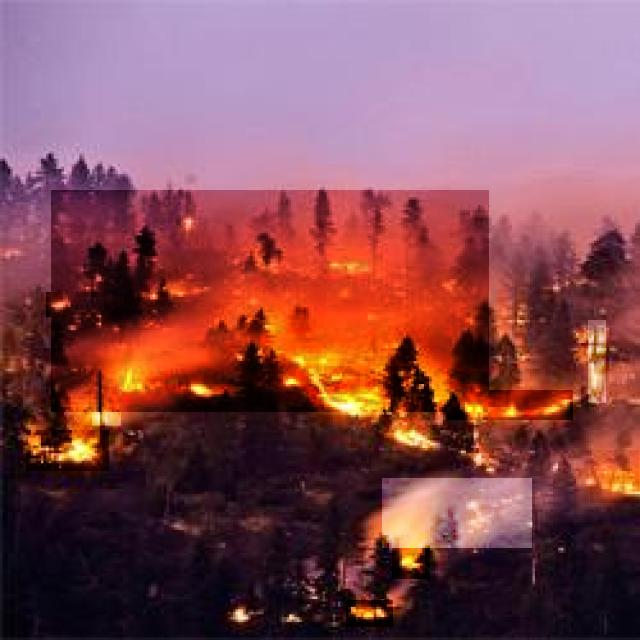Fire: (300, 343, 395, 425), (448, 390, 574, 420), (26, 430, 109, 471), (590, 450, 639, 503), (393, 421, 446, 457), (149, 278, 208, 310), (588, 320, 606, 403), (392, 541, 430, 579), (181, 375, 227, 404), (113, 361, 149, 398), (332, 249, 373, 280), (346, 600, 393, 627), (257, 308, 286, 342), (274, 370, 305, 400), (46, 292, 76, 317), (92, 401, 121, 426)
Smoke: (52, 190, 490, 412), (382, 478, 532, 548)
